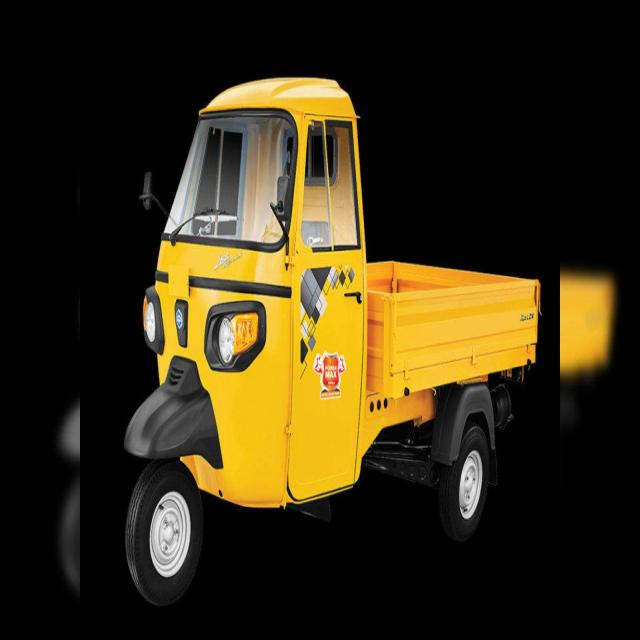autorickshaw: (125, 78, 540, 604)
